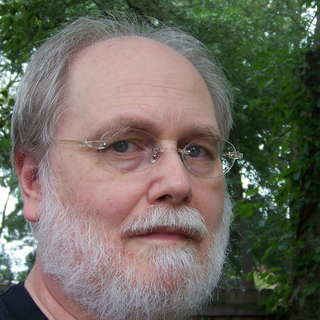eye: (103, 134, 150, 157), (180, 140, 215, 165)
